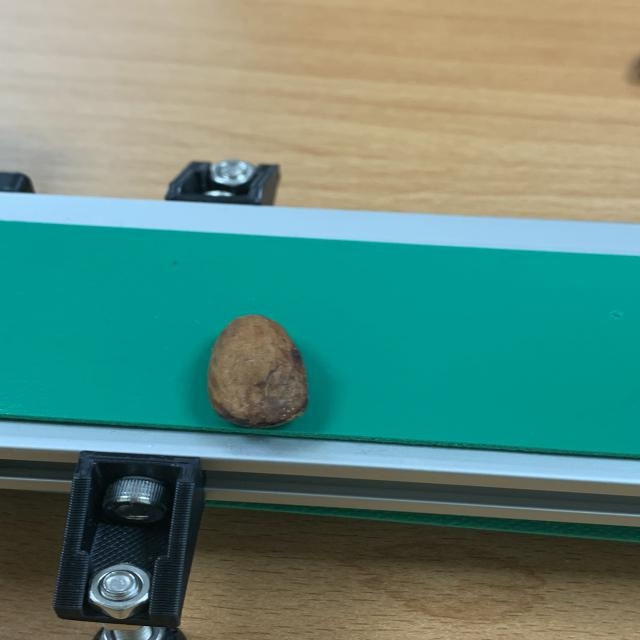Fine_cocoabeans: (109, 300, 430, 477)
